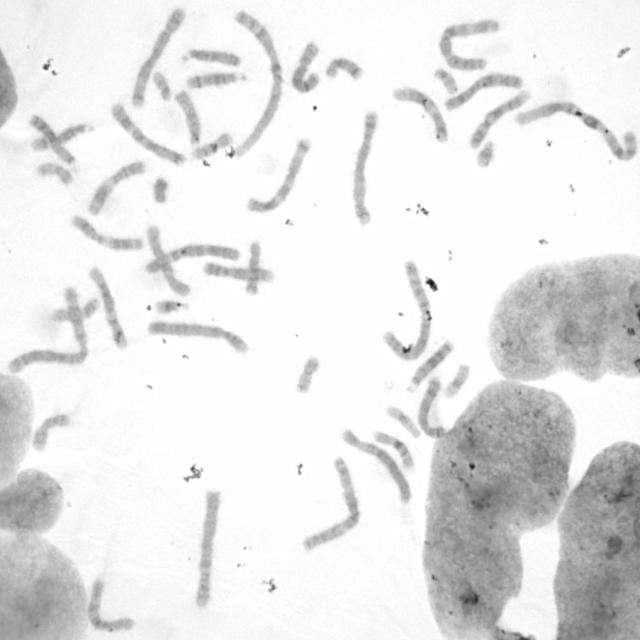A1: (229, 9, 284, 162), (513, 99, 638, 162)
A2: (7, 284, 90, 376), (380, 258, 432, 363)
A3: (299, 456, 361, 555), (438, 18, 500, 73)
B4: (146, 319, 250, 358), (192, 489, 222, 609)
B5: (128, 5, 187, 108), (350, 111, 382, 226)
C10: (146, 223, 193, 299), (86, 576, 135, 633)
C11: (86, 160, 147, 218), (71, 213, 144, 252)
C12: (89, 266, 130, 351), (392, 85, 449, 144)
C6: (340, 425, 413, 507), (143, 243, 242, 275)
C7: (244, 135, 314, 215), (109, 100, 187, 168)
C8: (416, 375, 446, 440), (289, 41, 322, 96)
C9: (467, 87, 534, 151), (201, 259, 277, 285)
D13: (404, 338, 455, 396), (27, 113, 78, 167)
D14: (30, 122, 96, 153), (184, 71, 249, 92)
D15: (172, 88, 202, 145), (180, 48, 242, 68)
E16: (372, 428, 415, 471), (190, 132, 233, 161)
E17: (29, 410, 72, 453), (49, 295, 101, 323)
E18: (243, 239, 264, 297), (324, 56, 365, 84)
F19: (384, 402, 422, 440), (442, 362, 470, 399)
F20: (294, 354, 321, 396), (34, 161, 75, 188)
G21: (473, 138, 497, 171), (154, 298, 192, 317)
G22: (433, 66, 459, 96), (152, 70, 173, 103)
X: (442, 69, 524, 113)
Y: (152, 176, 171, 205)
